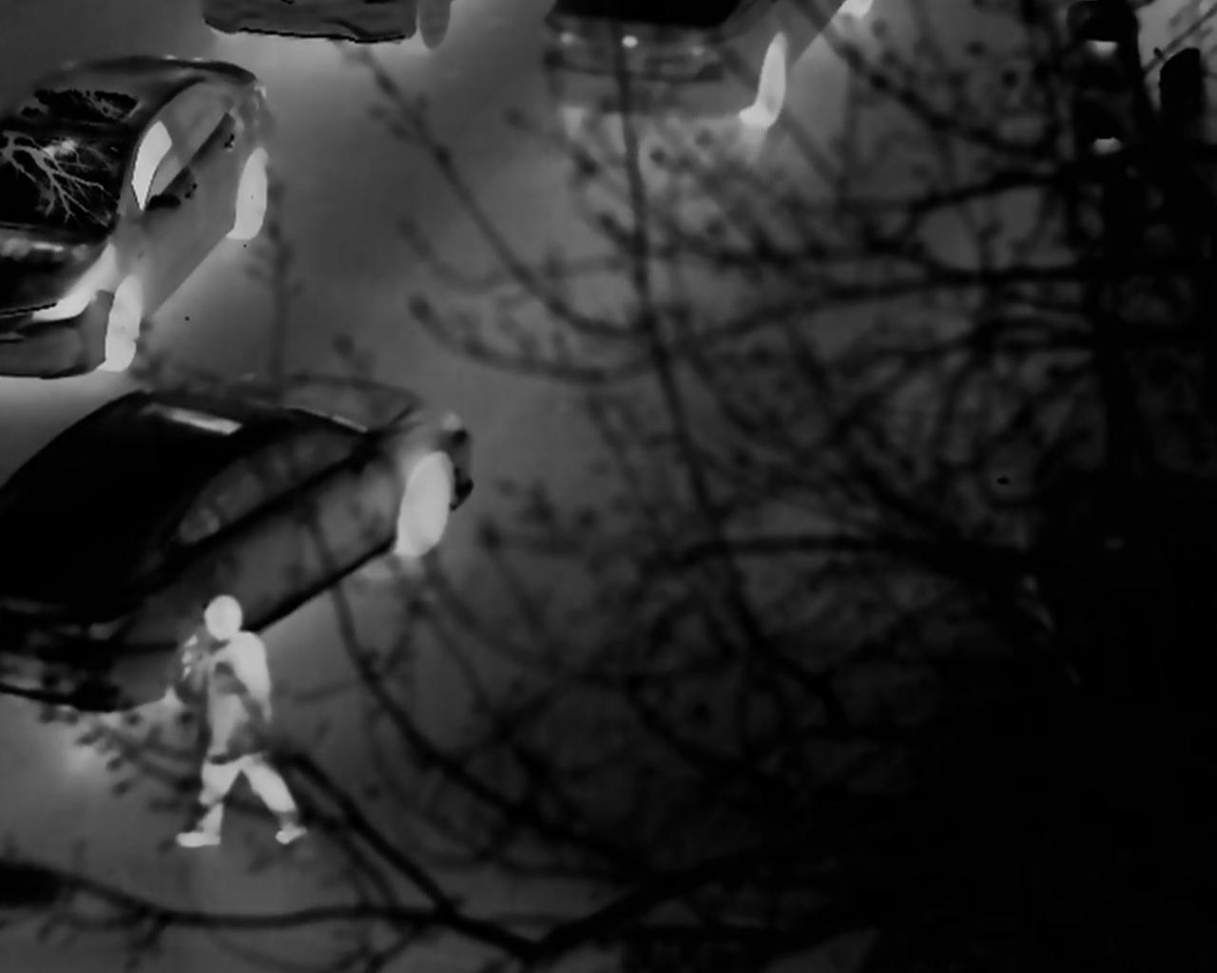person: (179, 592, 294, 849)
